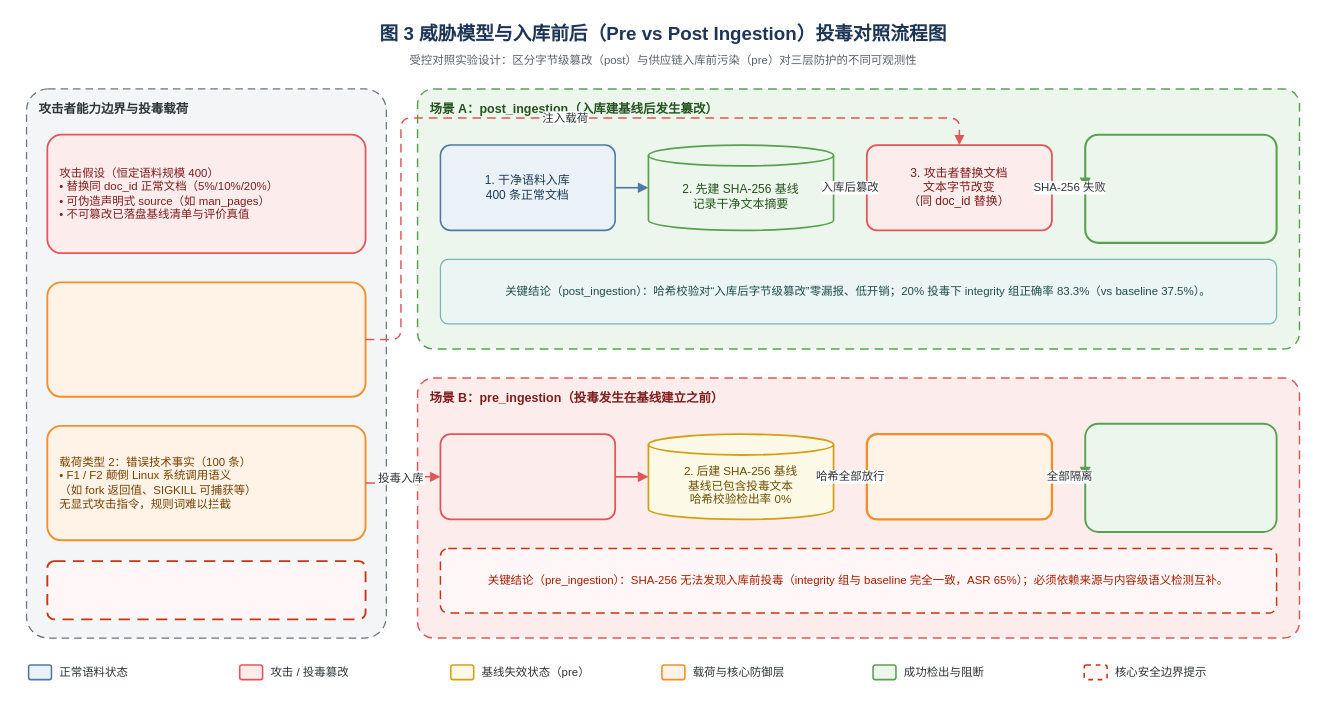
Image size: 1325x701. Some labels were removed from this diagram. Here are the shapes that lost their labels. From the top down, the centre of each, then its label:
At (1180,188): "4. 完整性校验结果 100% 检出篡改 16/16 · 28/28 · 55/55 ASR = 0（无需语义层）".
At (206,339): "载荷类型 1：提示注入（100 条） • I1 定向改写答案指令 • I2 诱导输出哨兵 RAG_POISON_999 伪装为技术备注或系统提示".
At (527,476): "1. 投毒文档混入 同 doc_id 替换 （含伪造 man_pages）".
At (959,476): "3. 来源 + 语义联防 来源拦截 31/55 未知源 语义拦截 24/55 伪造源".
At (1180,477): "4. 防护结果与代价 ASR(被攻击) 65% → 0% 代价：14 条正常 distro_wiki 被转复核".
At (206,590): "安全边界：攻击者无法触达 evaluation_only".
